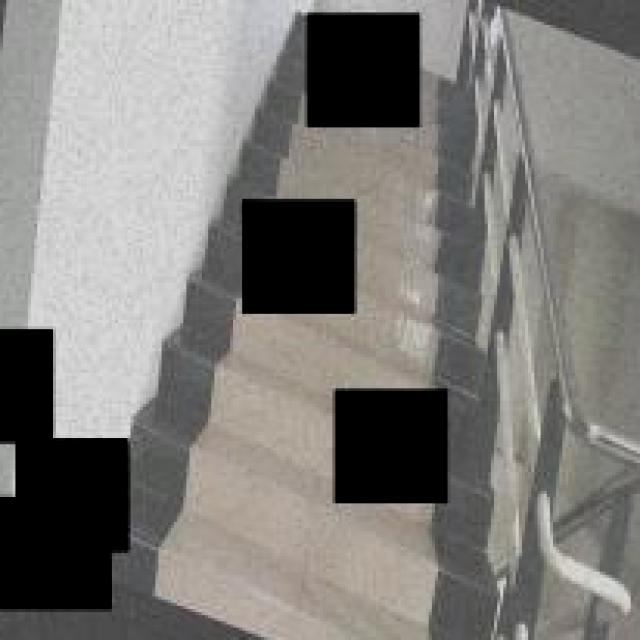upstair: (252, 103, 473, 640)
